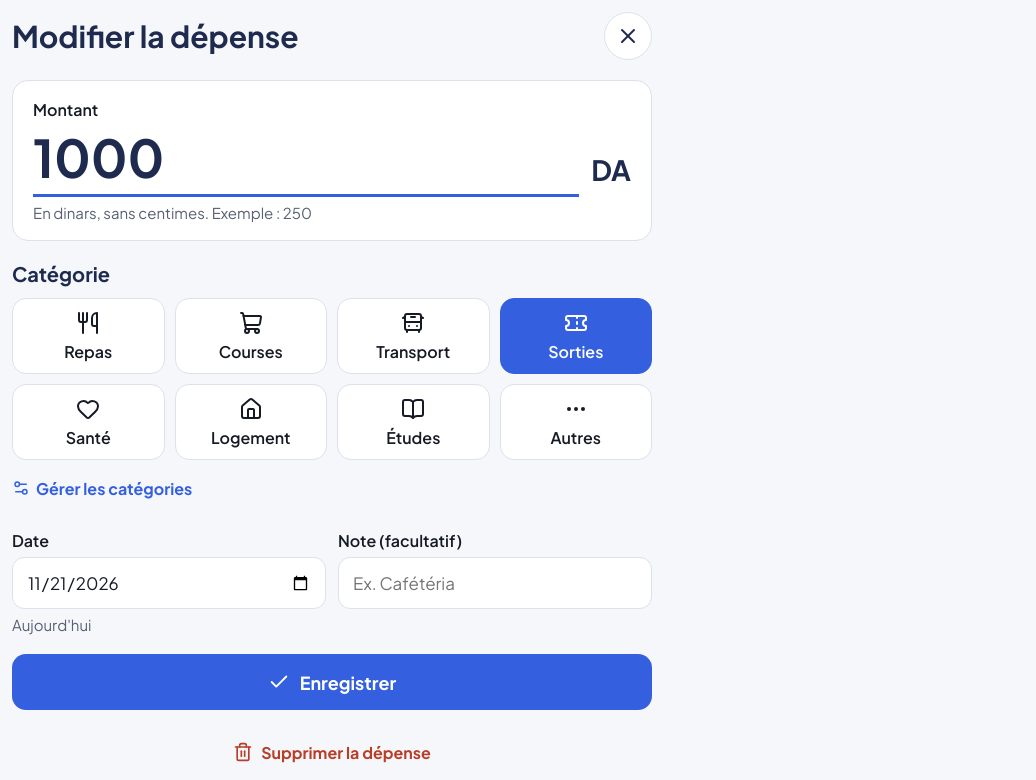
Scenario: EditExpense › ouvert depuis la liste du mois : « Enregistrer » revient sur la liste du même mois, avec le message et « Annuler »
The width and height of the screenshot is (1036, 780).
Step 1. Replace the text in the field labelled "Montant" with "1200" → (306, 158), box [33,120,579,197]
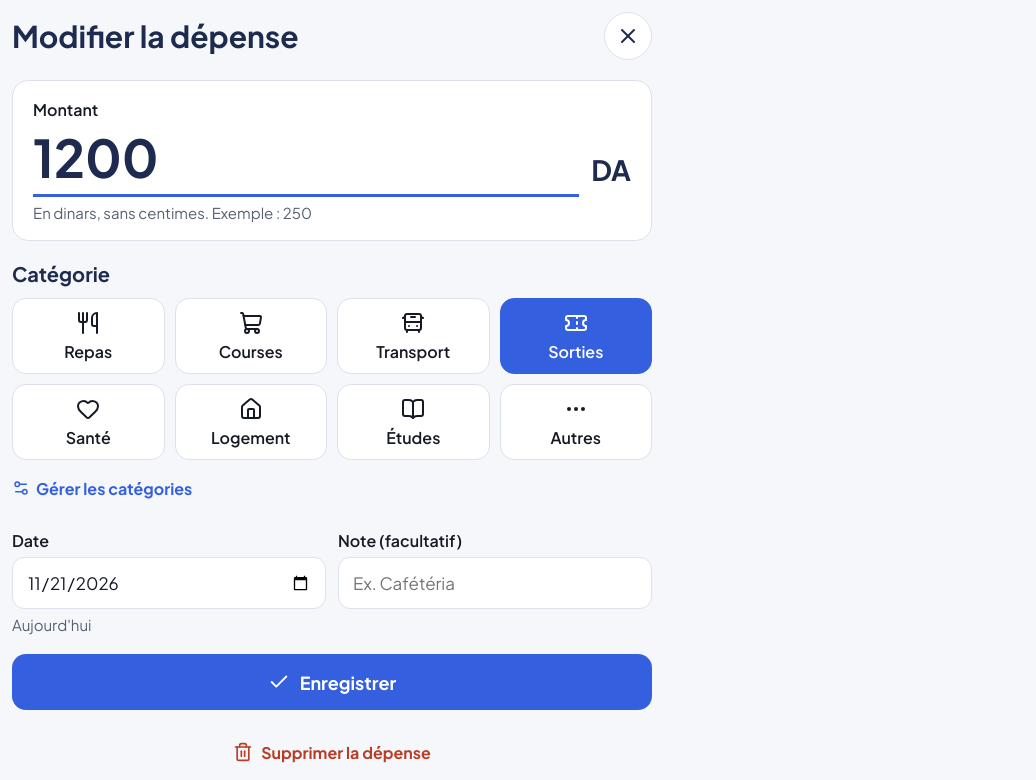
Step 2. Click the button "Enregistrer" → (332, 682), box [12,654,652,710]
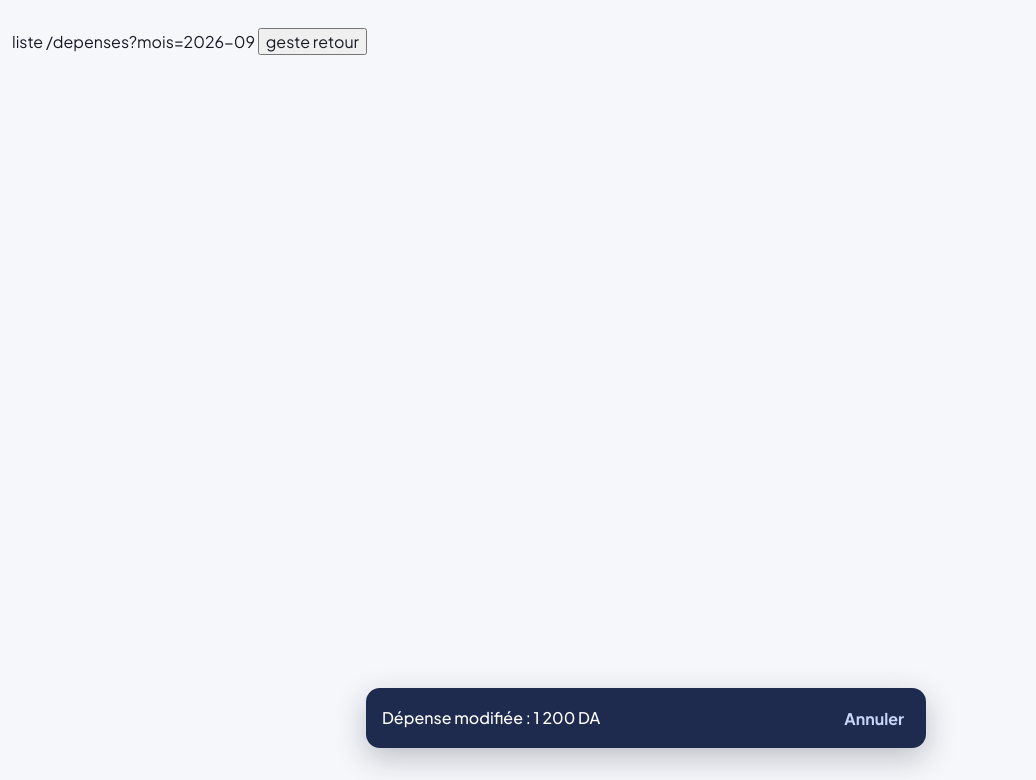
Now the text "liste /depenses?mois=2026-09" is shown, box [12,28,367,55]
Now the text "Dépense modifiée : 1 200 DA" is shown, box [382,707,600,728]
Now the button "Annuler" is shown, box [830,696,918,740]
